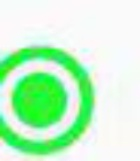RadioButton: (1, 1, 139, 160)
